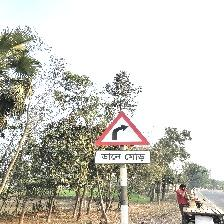Right-turn: (94, 111, 151, 165)
